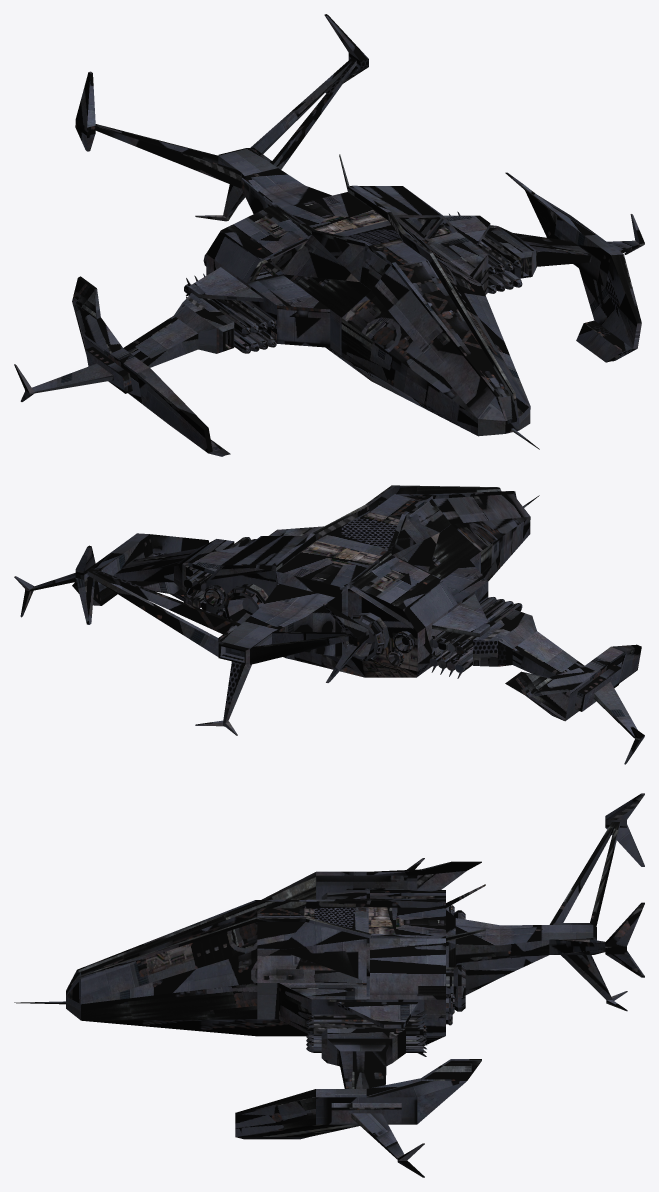
File: cobra_fighter.obj
The picture shows the model from 3 angles, top to bottom: view 1: azimuth 30°, elevation 25°; view 2: azimuth 150°, elevation 25°; view 3: azimuth 270°, elevation 25°; orthographic projection. The views are drawn at different scales.
Parts seen in each view (by area): view 1: Object01; view 2: Object01; view 3: Object01.
Part boxes in pixels (<box>): Object01: <box>14,14,644,456</box>; Object01: <box>14,485,644,764</box>; Object01: <box>14,793,644,1177</box>.
Size of the model in its own units: 81.82 by 26.7 by 76.3.
